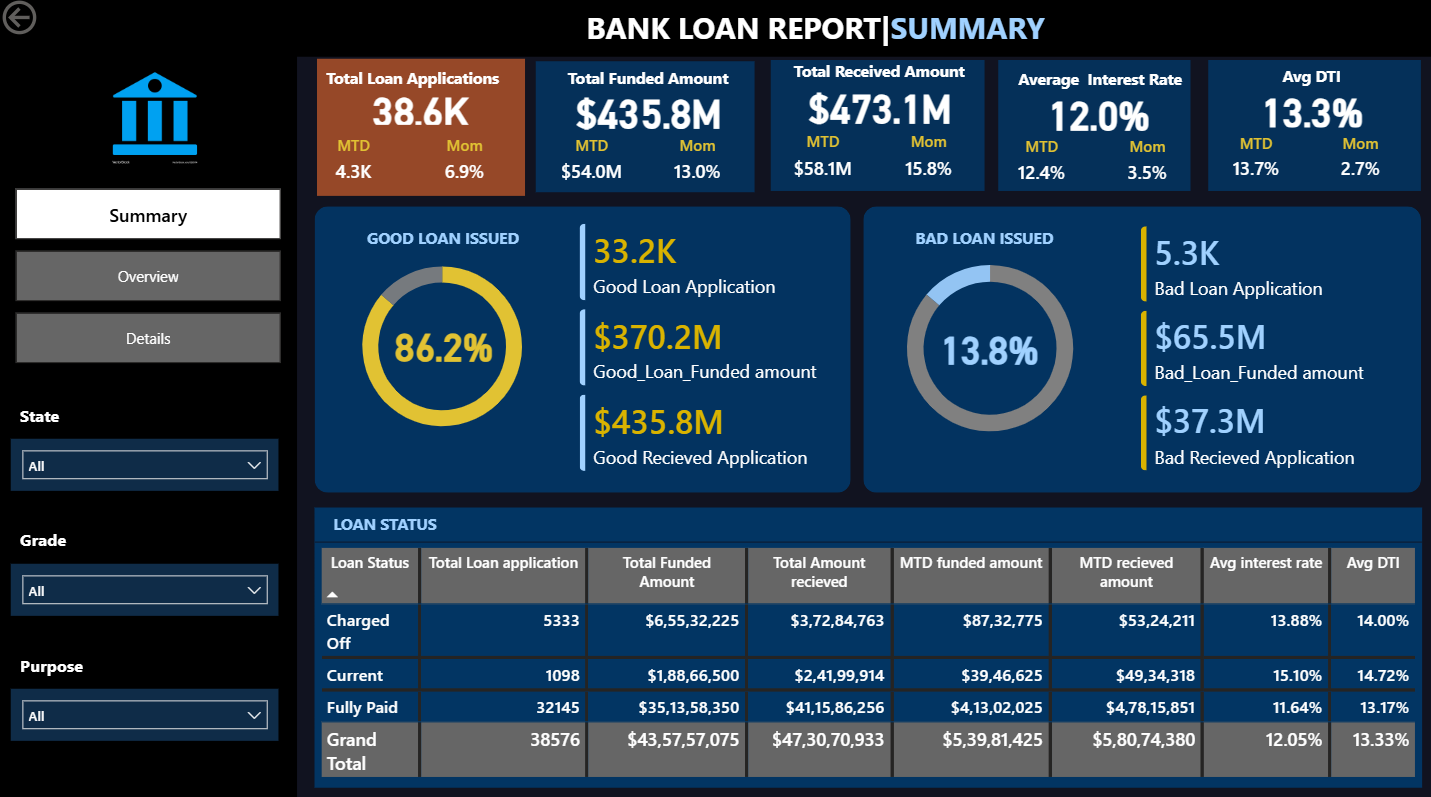

The dashboard page shown, as its layout file describes it:
{"tool":"powerbi","page":{"name":"Summary","canvas":[1280,720],"ordinal":0},"visuals":[{"type":"card","fields":{"Values":["Measures_Table.Total Amount recieved"]},"box":[689,76.8,194.9,43.5],"z":0,"group":"g2"},{"type":"card","fields":{"Values":["Measures_Table.Avg DTI"]},"box":[1075.8,80.7,191.9,42],"z":0,"group":"g5"},{"type":"card","fields":{"Values":["Measures_Table.Total_Loan_application"]},"box":[283,80.9,189.4,39.8],"z":0,"group":"g11"},{"type":"card","fields":{"Values":["Measures_Table.Total Funded Amount"]},"box":[483.3,81.9,194.9,42.5],"z":0,"group":"g1"},{"type":"card","fields":{"Values":["Measures_Table.Avg interest rate"]},"box":[883.7,83.7,194.9,42.5],"z":0,"group":"g6"},{"type":"shape","box":[771.2,188,496.7,255.2],"z":0},{"type":"textbox","box":[701.3,52.9,168.8,29.5],"z":1000,"group":"g2"},{"type":"textbox","box":[1088,57.6,166.3,28.5],"z":1000,"group":"g5"},{"type":"textbox","box":[495.6,58.6,168.8,28.8],"z":1000,"group":"g1"},{"type":"textbox","box":[282,59,176.9,28.8],"z":1000,"group":"g11"},{"type":"textbox","box":[896,60.4,168.8,28.8],"z":1000,"group":"g6"},{"type":"shape","title":"Good","box":[282.7,188,477.5,255.2],"z":1000},{"type":"card","title":"MTD","fields":{"Values":["Measures_Table.MTD recieved amount"]},"box":[701.3,120.3,68.6,52],"z":2000,"group":"g2"},{"type":"card","title":"MTD","fields":{"Values":["Measures_Table.MTD DTI"]},"box":[1088,122.7,67.6,50.2],"z":2000,"group":"g5"},{"type":"card","title":"MTD","fields":{"Values":["Measures_Table.MTD funded amount"]},"box":[495.6,124.5,68.6,50.8],"z":2000,"group":"g1"},{"type":"card","title":"MTD","fields":{"Values":["Measures_Table.MTD Loan Applications"]},"box":[282,124.9,71.9,50.8],"z":2000,"group":"g11"},{"type":"card","title":"MTD","fields":{"Values":["Measures_Table.MTD Avg amount"]},"box":[896,126.3,68.6,50.8],"z":2000,"group":"g6"},{"type":"card","fields":{"Values":["Measures_Table.Good loan %"]},"box":[343.6,288.3,108,46.6],"z":2000},{"type":"textbox","box":[12.3,0,168.8,28.8],"z":3000},{"type":"card","title":"Mom","fields":{"Values":["Measures_Table.MOM Received amount"]},"box":[789.2,120.3,81,52],"z":3000,"group":"g2"},{"type":"card","title":"Mom","fields":{"Values":["Measures_Table.MOM Avg DTI"]},"box":[1174.5,122.7,79.8,50.2],"z":3000,"group":"g5"},{"type":"card","title":"Mom","fields":{"Values":["Measures_Table.MOM funded amount"]},"box":[583.5,124.5,81,50.8],"z":3000,"group":"g1"},{"type":"card","title":"Mom","fields":{"Values":["Measures_Table.MOM_loan_application"]},"box":[374,124.9,84.8,50.8],"z":3000,"group":"g11"},{"type":"card","title":"Mom","fields":{"Values":["Measures_Table.MOM Avg amount"]},"box":[983.9,126.3,81,50.8],"z":3000,"group":"g6"},{"type":"textbox","box":[794.5,201.7,168.8,28.8],"z":4000},{"type":"shape","box":[0,0,1280.3,55],"z":5000},{"type":"shape","box":[0,53.5,267.6,666.9],"z":6000},{"type":"textbox","box":[511.8,5.5,433.6,50.8],"z":7000},{"type":"shape","box":[285.4,56.3,185.2,122.1],"z":8000},{"type":"group","id":"g1","title":"Group 2","box":[483.3,58.6,194.9,116.6],"z":8001,"group":"g7"},{"type":"group","id":"g2","title":"Group 3","box":[689,52.9,194.9,119.4],"z":8003,"group":"g8"},{"type":"group","id":"g3","title":"Group 3","box":[1075.8,57.6,191.9,115.3],"z":8003,"group":"g9"},{"type":"group","id":"g4","title":"Group 3","box":[883.7,60.4,194.9,116.6],"z":8003,"group":"g10"},{"type":"group","id":"g5","title":"Group 4","box":[1075.8,57.6,191.9,115.3],"z":8005,"group":"g3"},{"type":"group","id":"g6","title":"Group 4","box":[883.7,60.4,194.9,116.6],"z":8005,"group":"g4"},{"type":"shape","box":[480.3,59,194.9,116.6],"z":9000},{"type":"shape","box":[688.9,57.6,190.7,116.6],"z":10000},{"type":"group","id":"g7","title":"Group 1","box":[483.3,58.6,194.9,116.6],"z":11000},{"type":"group","id":"g8","title":"Group 2","box":[689,52.9,194.9,119.4],"z":12000},{"type":"shape","box":[1078.6,57.6,189.4,116.6],"z":13000},{"type":"group","id":"g9","title":"Group 2","box":[1075.8,57.6,192.1,115.3],"z":14000},{"type":"donutChart","fields":{"Category":["Bank_loan_data.Good Vs Bad Loan"],"Y":["Measures_Table.Total_Loan_application"]},"box":[303.1,184.1,187.7,258.9],"z":15000},{"type":"shape","box":[891.9,57.6,171.5,116.6],"z":16000},{"type":"group","id":"g10","title":"Group 2","box":[883.7,60.4,194.9,116.6],"z":17000},{"type":"group","id":"g11","title":"Group 1","box":[282,59,190.4,116.6],"z":18000},{"type":"cardVisual","fields":{"Data":["Measures_Table.Good Loan Application","Measures_Table.Good_Loan_Funded amount","Measures_Table.Good Recieved Application"]},"box":[502.2,186.6,258,255.2],"z":19000},{"type":"donutChart","fields":{"Category":["Bank_loan_data.Good Vs Bad Loan"],"Y":["Measures_Table.Total_Loan_application"]},"box":[786.5,191.4,195.1,246.6],"z":20000},{"type":"textbox","box":[312.9,201.7,168.8,28.8],"z":21000},{"type":"card","fields":{"Values":["Measures_Table.Bad loan %"]},"box":[829.5,290.8,109.2,46.6],"z":22000},{"type":"cardVisual","fields":{"Data":["Measures_Table.Bad Loan Application","Measures_Table.Bad_Loan_Funded amount","Measures_Table.Bad Recieved Application"]},"box":[1001.7,189.4,260.7,253.9],"z":23000},{"type":"shape","title":"Good","box":[282.7,506.3,979.8,199],"z":24000},{"type":"tableEx","fields":{"Values":["Bank_loan_data.loan_status","Measures_Table.Total_Loan_application","Measures_Table.Total Funded Amount","Measures_Table.Total Amount recieved","Measures_Table.MTD funded amount","Measures_Table.MTD recieved amount","Measures_Table.Avg interest rate","Measures_Table.Avg DTI"]},"box":[282.7,487.1,986.6,218.2],"z":25000},{"type":"actionButton","box":[0,0,100,40],"z":26000},{"type":"slicer","fields":{"Values":["Bank_loan_data.address_state"]},"box":[12.3,395.2,238.8,46.7],"z":27000},{"type":"textbox","box":[282.7,456.9,986.6,30.2],"z":28000},{"type":"textbox","box":[15.1,359.5,57.6,35.7],"z":29000},{"type":"slicer","fields":{"Values":["Bank_loan_data.grade"]},"box":[12.3,506.3,238.8,46.7],"z":30000},{"type":"textbox","box":[15.1,469.3,102.9,35.7],"z":31000},{"type":"slicer","fields":{"Values":["Bank_loan_data.purpose"]},"box":[12.3,617.5,238.8,46.7],"z":32000},{"type":"textbox","box":[15.1,581.8,93.3,35.7],"z":33000},{"type":"image","box":[90.6,65.9,100.2,86.4],"z":34000},{"type":"pageNavigator","box":[16.5,172.9,236,155.1],"z":35000}]}

Visuals, with their boxes in screenshot pixels (x1, y1, x2, y2), scaled from the page's 1280x720 canvas onto the 1431x797 screenshot:
card - Measures_Table.Total Amount recieved: locate(770, 85, 988, 133)
card - Measures_Table.Avg DTI: locate(1203, 89, 1417, 136)
card - Measures_Table.Total_Loan_application: locate(316, 90, 528, 134)
card - Measures_Table.Total Funded Amount: locate(540, 91, 758, 138)
card - Measures_Table.Avg interest rate: locate(988, 93, 1206, 140)
shape: locate(862, 208, 1417, 491)
textbox: locate(784, 59, 973, 91)
textbox: locate(1216, 64, 1402, 95)
textbox: locate(554, 65, 743, 97)
textbox: locate(315, 65, 513, 97)
textbox: locate(1002, 67, 1190, 99)
"Good" shape: locate(316, 208, 850, 491)
"MTD" card: locate(784, 133, 861, 191)
"MTD" card: locate(1216, 136, 1292, 191)
"MTD" card: locate(554, 138, 631, 194)
"MTD" card: locate(315, 138, 396, 194)
"MTD" card: locate(1002, 140, 1078, 196)
card - Measures_Table.Good loan %: locate(384, 319, 505, 371)
textbox: locate(14, 0, 202, 32)
"Mom" card: locate(882, 133, 973, 191)
"Mom" card: locate(1313, 136, 1402, 191)
"Mom" card: locate(652, 138, 743, 194)
"Mom" card: locate(418, 138, 513, 194)
"Mom" card: locate(1100, 140, 1191, 196)
textbox: locate(888, 223, 1077, 255)
shape: locate(0, 0, 1430, 61)
shape: locate(0, 59, 299, 796)
textbox: locate(572, 6, 1057, 62)
shape: locate(319, 62, 526, 197)
"Group 2" group: locate(540, 65, 758, 194)
"Group 3" group: locate(770, 59, 988, 191)
"Group 3" group: locate(1203, 64, 1417, 191)
"Group 3" group: locate(988, 67, 1206, 196)
"Group 4" group: locate(1203, 64, 1417, 191)
"Group 4" group: locate(988, 67, 1206, 196)
shape: locate(537, 65, 755, 194)
shape: locate(770, 64, 983, 193)
"Group 1" group: locate(540, 65, 758, 194)
"Group 2" group: locate(770, 59, 988, 191)
shape: locate(1206, 64, 1418, 193)
"Group 2" group: locate(1203, 64, 1417, 191)
donutChart - Bank_loan_data.Good Vs Bad Loan x Measures_Table.Total_Loan_application: locate(339, 204, 549, 490)
shape: locate(997, 64, 1189, 193)
"Group 2" group: locate(988, 67, 1206, 196)
"Group 1" group: locate(315, 65, 528, 194)
cardVisual - Measures_Table.Good Loan Application x Measures_Table.Good_Loan_Funded amount: locate(561, 207, 850, 489)
donutChart - Bank_loan_data.Good Vs Bad Loan x Measures_Table.Total_Loan_application: locate(879, 212, 1097, 485)
textbox: locate(350, 223, 539, 255)
card - Measures_Table.Bad loan %: locate(927, 322, 1049, 373)
cardVisual - Measures_Table.Bad Loan Application x Measures_Table.Bad_Loan_Funded amount: locate(1120, 210, 1411, 491)
"Good" shape: locate(316, 560, 1411, 781)
tableEx - Bank_loan_data.loan_status x Measures_Table.Total_Loan_application: locate(316, 539, 1419, 781)
actionButton: locate(0, 0, 112, 44)
slicer - Bank_loan_data.address_state: locate(14, 437, 281, 489)
textbox: locate(316, 506, 1419, 539)
textbox: locate(17, 398, 81, 437)
slicer - Bank_loan_data.grade: locate(14, 560, 281, 612)
textbox: locate(17, 519, 132, 559)
slicer - Bank_loan_data.purpose: locate(14, 684, 281, 735)
textbox: locate(17, 644, 121, 684)
image: locate(101, 73, 213, 169)
pageNavigator: locate(18, 191, 282, 363)
